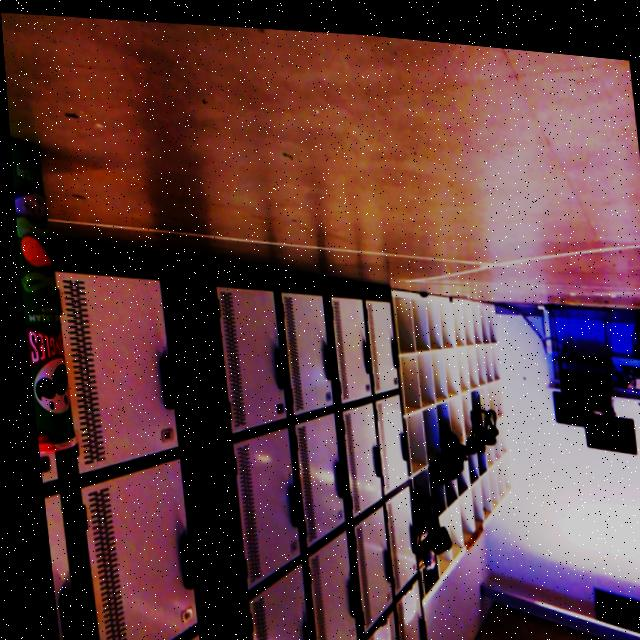greenpringles: (7, 121, 84, 465)
